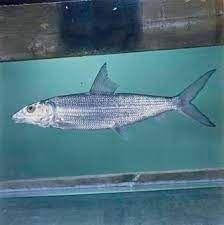Tenpounder: (13, 63, 224, 133)
